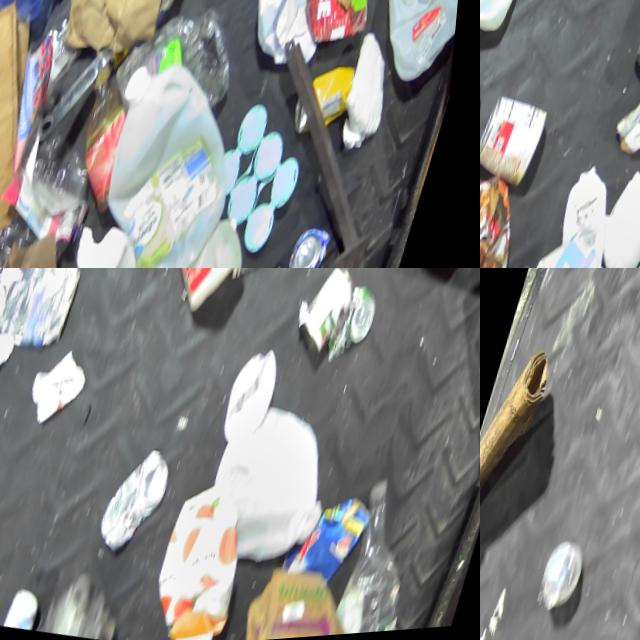can: (98, 441, 187, 564), (0, 268, 94, 356), (480, 93, 558, 194), (291, 268, 366, 368), (292, 63, 366, 150), (339, 289, 387, 373), (286, 226, 343, 268)
milk_jug: (75, 57, 269, 268), (199, 395, 360, 584), (364, 0, 468, 103), (237, 0, 360, 84), (122, 268, 278, 326), (155, 214, 266, 268)
non_white_jug: (149, 476, 276, 640)
plastic_bottle: (329, 481, 449, 640)
